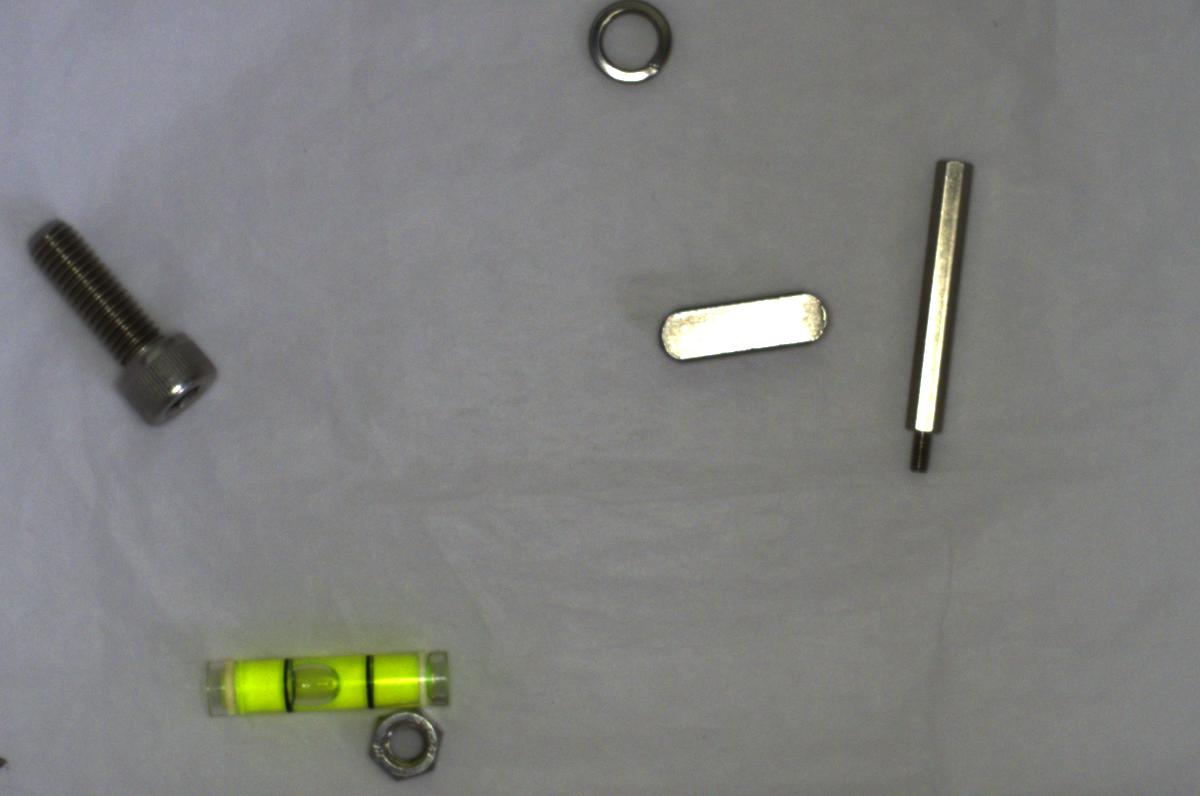Hexagon nut: (359, 702, 450, 788)
Hexagon screw: (30, 216, 213, 426)
Hexagonal steel column: (892, 152, 973, 475)
Horizontal bubble: (193, 635, 452, 718)
Keybar: (647, 286, 838, 365)
Spring washer: (580, 6, 684, 88)
